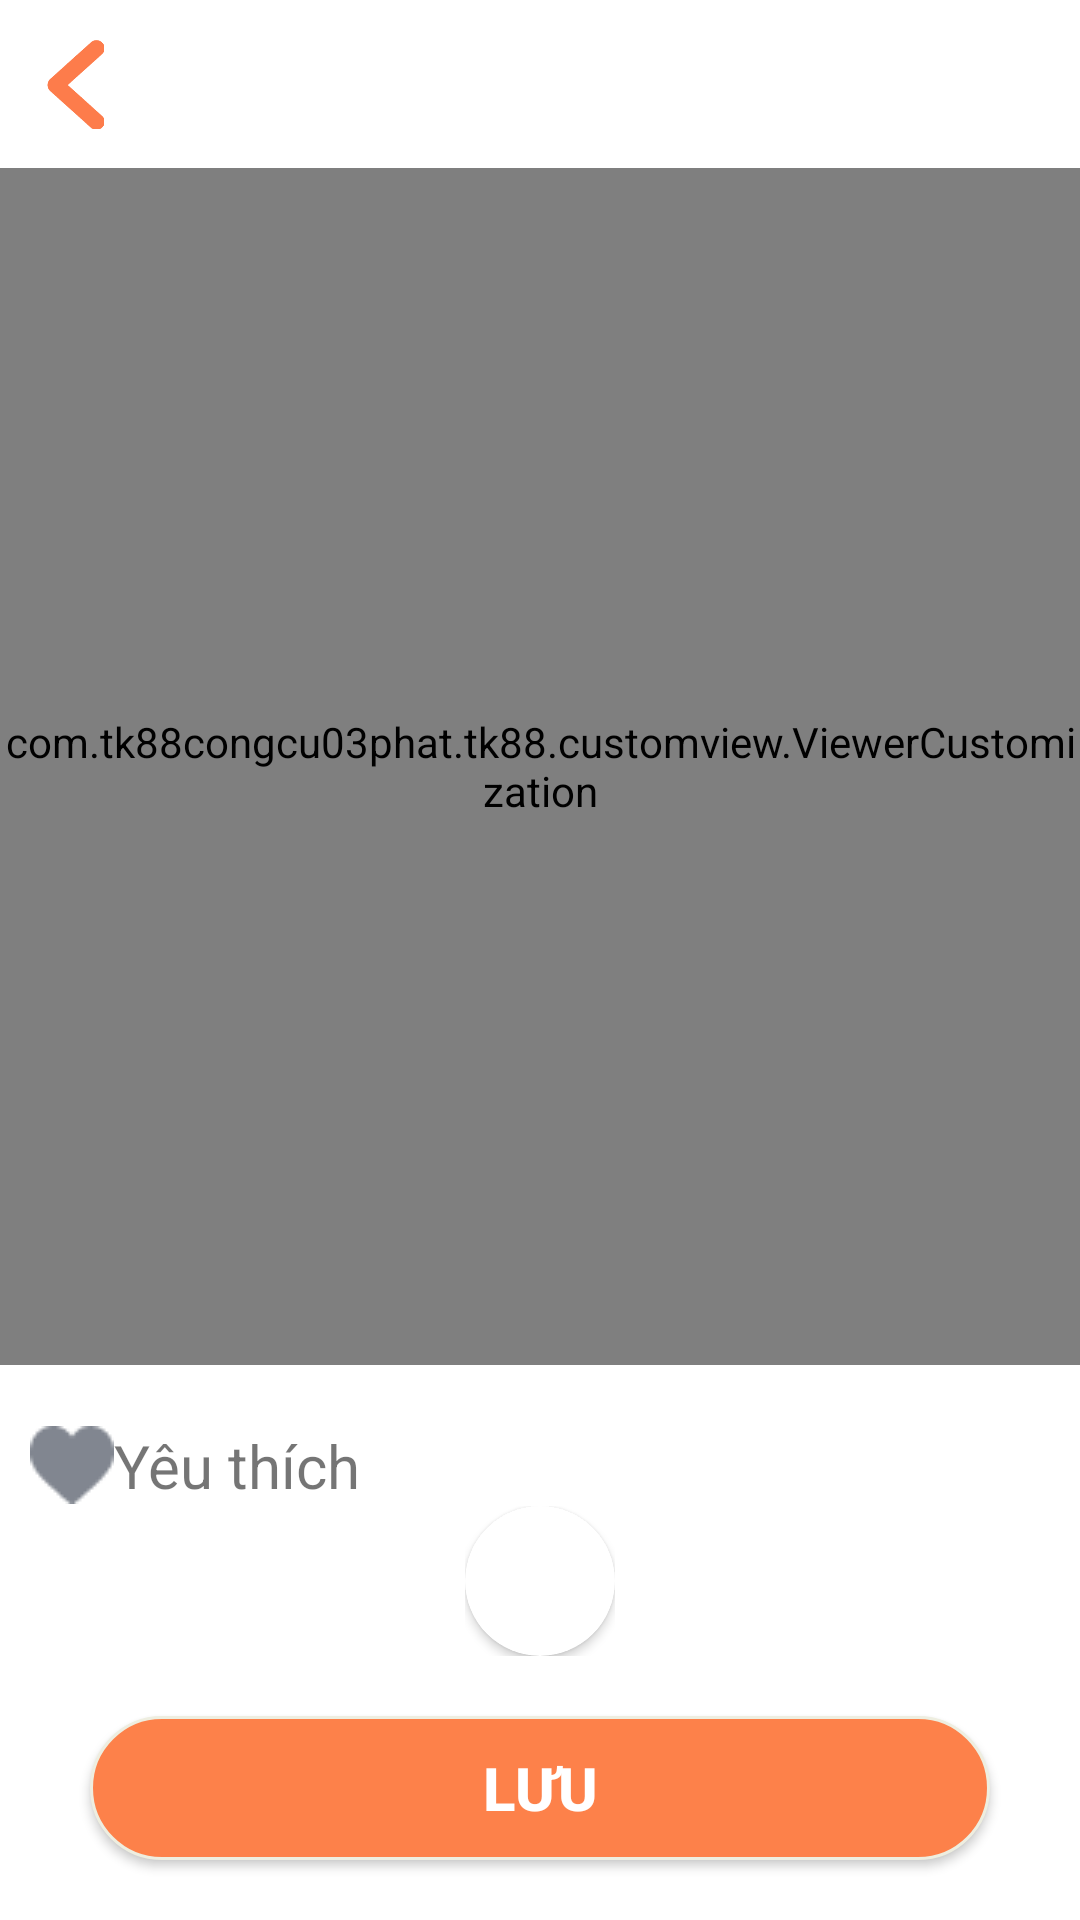

Point at icon controls on the screen. Image size 1080px×1920px, points as [x,y].
back: [75,84]
